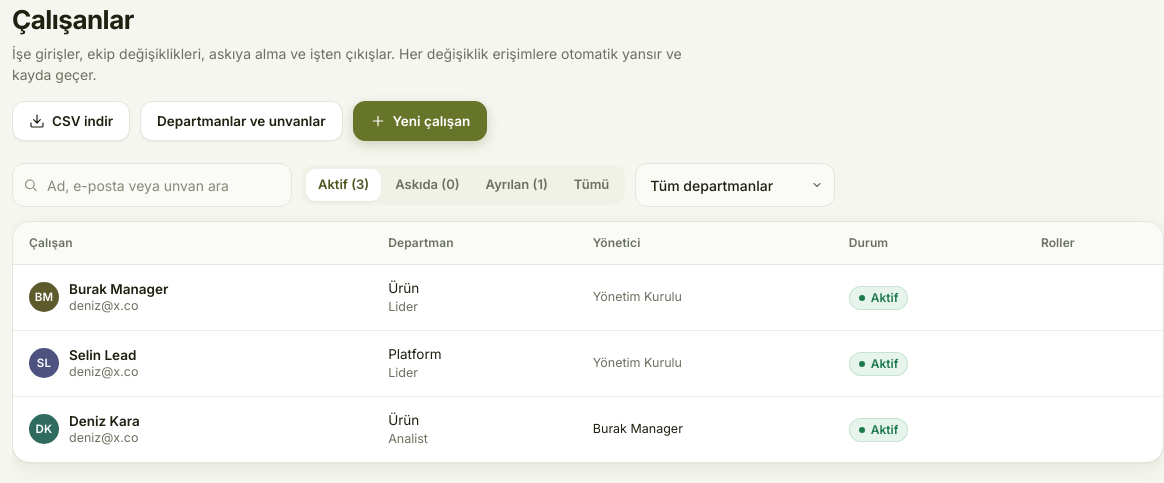
it: employees › filters the directory by status
Expected: the text "Deniz Kara" is shown, top-left (69, 413), bottom-right (140, 430)
Expected: the text "Eski Çalışan" is not shown
Click the button "Ayrılan (1)" at (517, 185), box top-left (474, 169), bottom-right (560, 201)
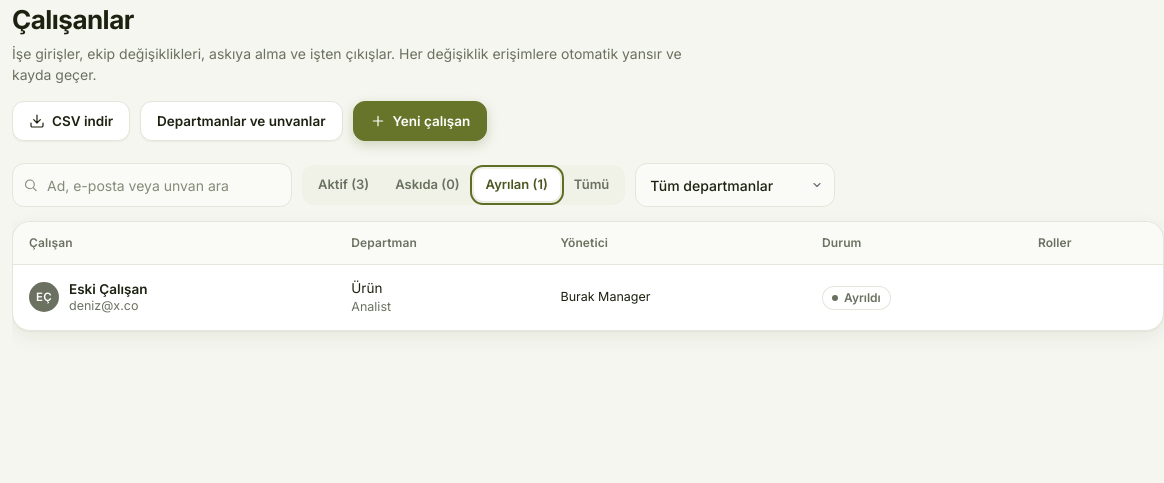
Expected: the text "Eski Çalışan" is shown, top-left (69, 281), bottom-right (147, 298)
